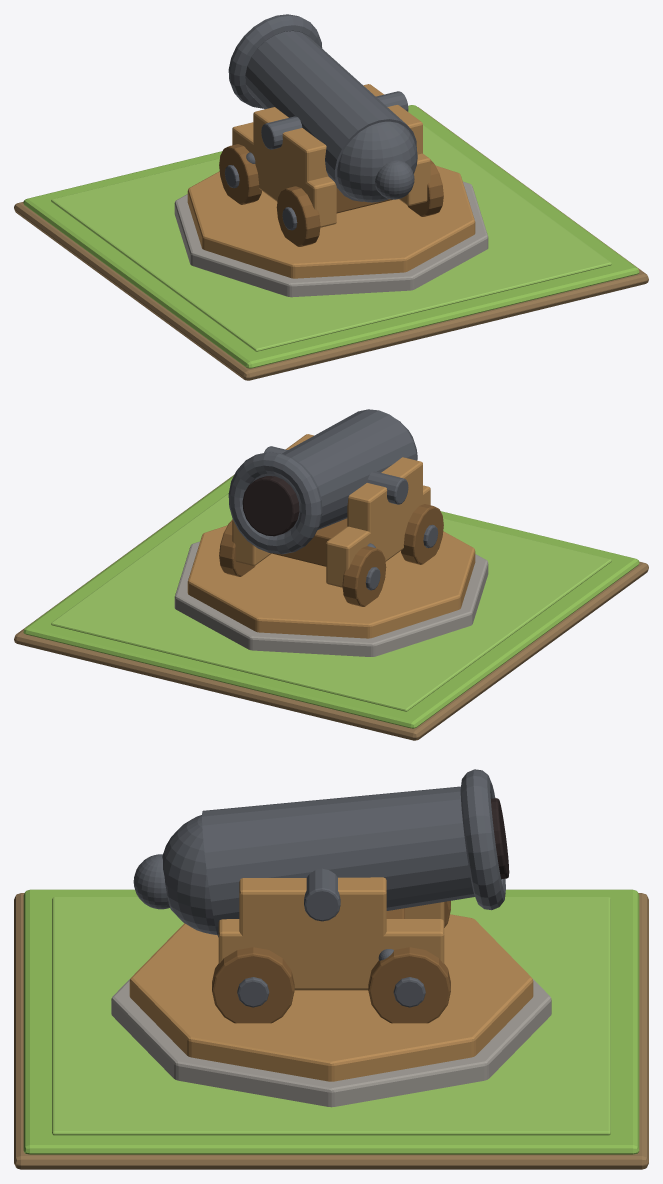
File: cannon_lv1.glb
3 renders of one model, top to bottom at view 1: azimuth 30°, elevation 25°; view 2: azimuth 150°, elevation 25°; view 3: azimuth 270°, elevation 25°, orthographic. The views are drawn at different scales.
Visible parts, largest first — view 1: Base_Inner, TurntableWood, Base_Grass, CannonBarrel, Base_Dirt, TurntableStone, CannonBreech, CarriageLower_-1, CarriageUpper_-1, MuzzleLip, CannonWheel_-1_-1, CannonWheel_-1_1 (+5 smaller); view 2: Base_Inner, TurntableWood, Base_Grass, Base_Dirt, CannonBarrel, TurntableStone, MuzzleLip, CarriageLower_-1, CarriageUpper_-1, BarrelBore, CannonWheel_-1_1, CannonWheel_-1_-1 (+4 smaller); view 3: Base_Inner, TurntableWood, Base_Grass, CannonBarrel, Base_Dirt, TurntableStone, CarriageLower_1, CarriageUpper_1, CannonWheel_1_-1, CannonWheel_1_1, CannonBreech, MuzzleLip (+6 smaller).
Part boxes in pixels (<box>): Base_Inner: <box>51,125,611,351</box>; TurntableWood: <box>187,165,475,278</box>; Base_Grass: <box>23,105,639,368</box>; CannonBarrel: <box>245,31,416,201</box>; Base_Dirt: <box>14,107,648,380</box>; TurntableStone: <box>174,181,488,297</box>; CannonBreech: <box>337,121,417,202</box>; CarriageLower_-1: <box>232,122,336,227</box>; CarriageUpper_-1: <box>253,107,328,183</box>; MuzzleLip: <box>228,14,322,108</box>; CannonWheel_-1_-1: <box>276,186,320,246</box>; CannonWheel_-1_1: <box>219,144,261,204</box>; Base_Inner: <box>51,493,611,711</box>; TurntableWood: <box>187,525,475,638</box>; Base_Grass: <box>23,475,639,728</box>; Base_Dirt: <box>14,474,648,740</box>; CannonBarrel: <box>251,409,416,533</box>; TurntableStone: <box>174,541,488,656</box>; MuzzleLip: <box>228,452,322,554</box>; CarriageLower_-1: <box>326,485,430,587</box>; CarriageUpper_-1: <box>347,457,422,534</box>; BarrelBore: <box>242,476,299,536</box>; CannonWheel_-1_1: <box>342,546,386,606</box>; CannonWheel_-1_-1: <box>401,504,443,564</box>; Base_Inner: <box>52,897,610,1135</box>; TurntableWood: <box>129,914,533,1081</box>; Base_Grass: <box>23,889,639,1154</box>; CannonBarrel: <box>202,786,474,937</box>; Base_Dirt: <box>14,893,648,1169</box>; TurntableStone: <box>111,940,551,1107</box>; CarriageLower_1: <box>218,919,444,990</box>; CarriageUpper_1: <box>239,877,386,938</box>; CannonWheel_1_-1: <box>212,947,294,1023</box>; CannonWheel_1_1: <box>368,947,450,1023</box>; CannonBreech: <box>162,815,217,934</box>; MuzzleLip: <box>460,769,505,910</box>.
Size of the model in its own units: 2.76 by 1.26 by 2.76.
